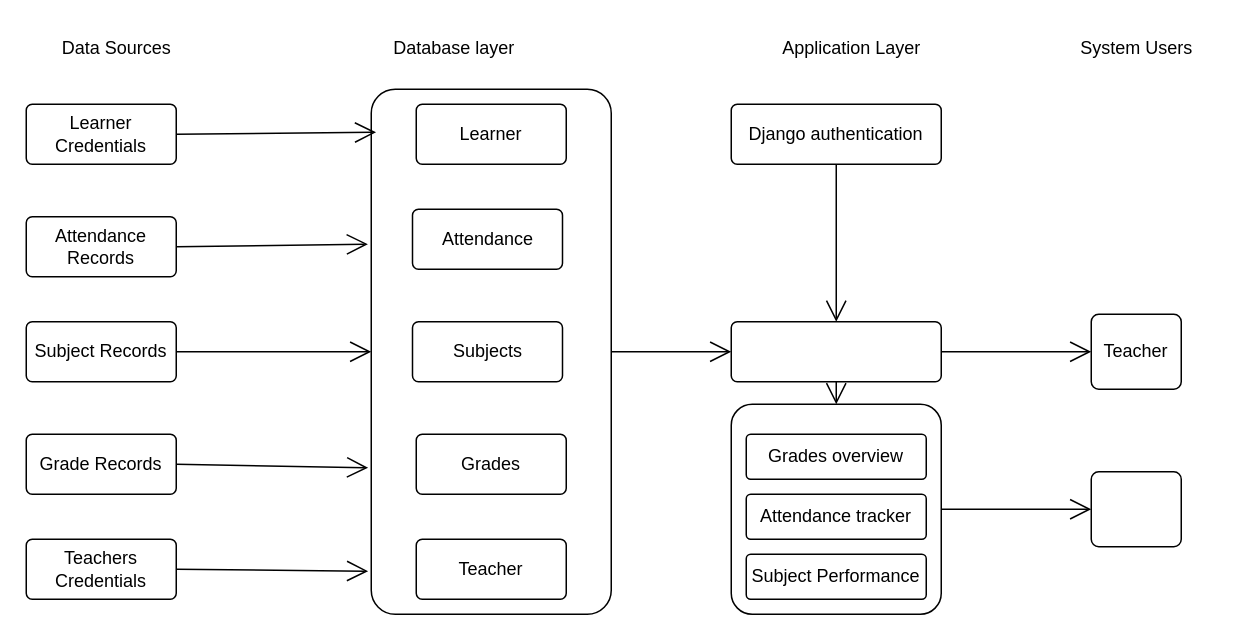
Some shapes in this 1238 by 641 pixel diagram are drawn without their labels. The box of each missing label's shape, as (x1, y1, x2, y2) in pixels:
Admin: (1090, 470, 1181, 547)
Streamlit dashboard: (730, 320, 941, 382)
